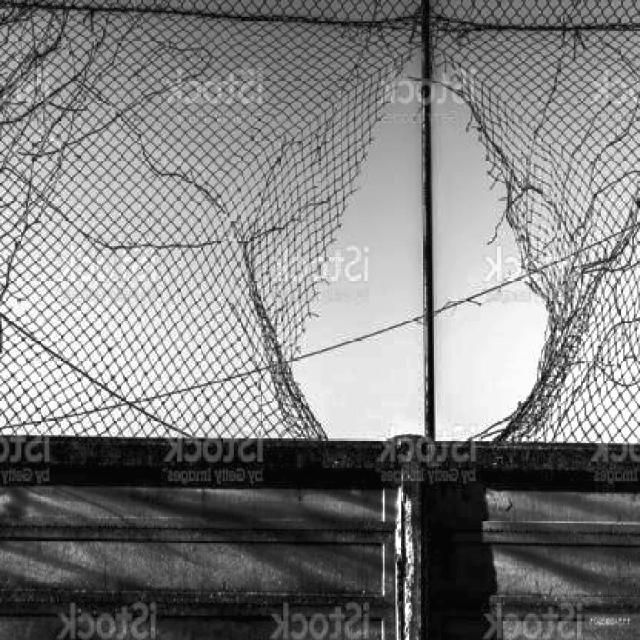anomaly-fence: (227, 19, 632, 443)
